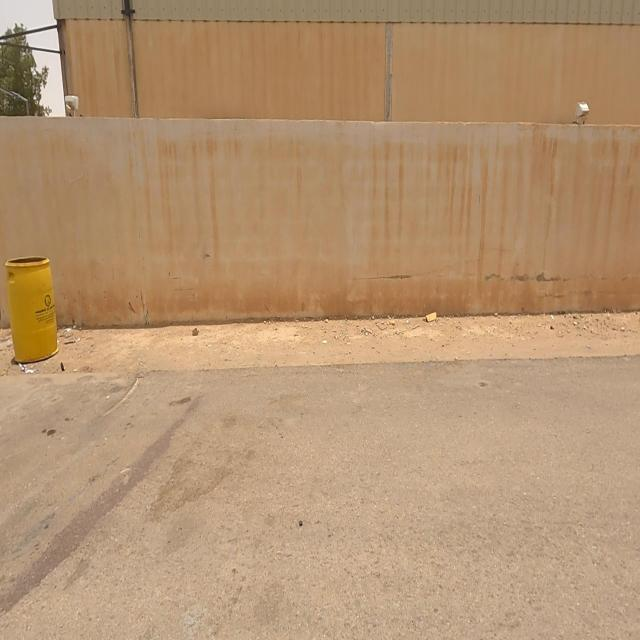debris: (46, 293, 98, 382), (406, 283, 456, 356), (6, 336, 46, 401)
